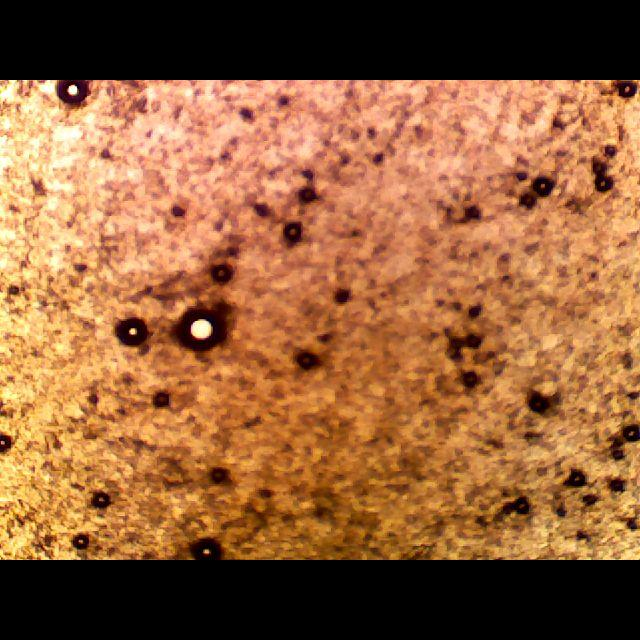microbeads: (178, 306, 230, 352), (111, 308, 149, 352)
